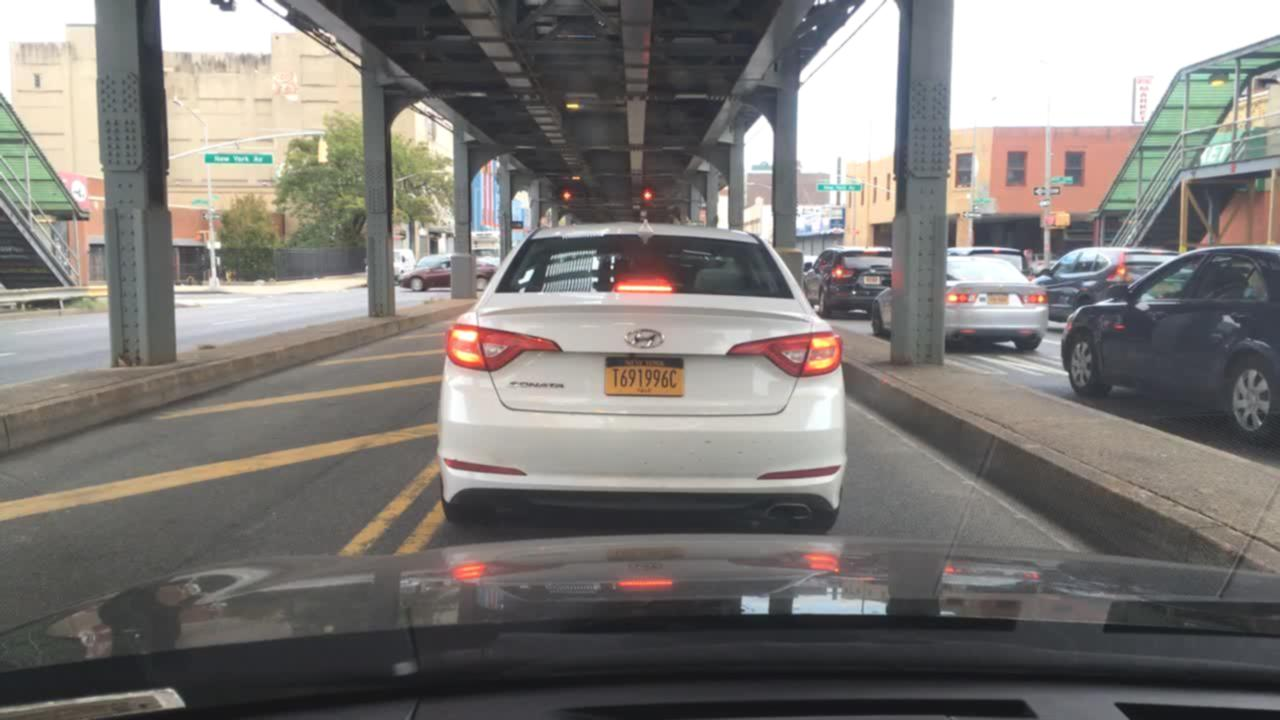Hyundai: (620, 319, 667, 350)
